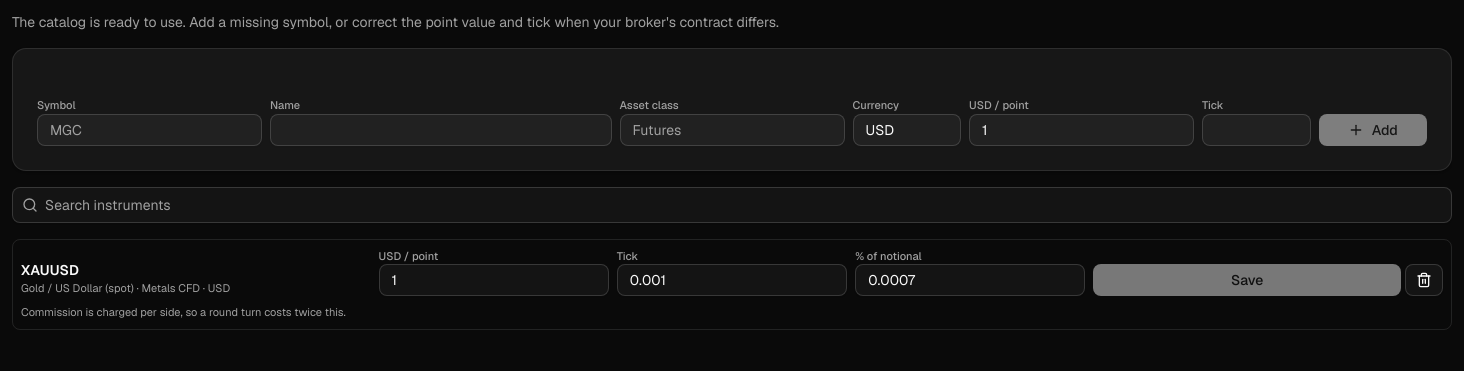
Test case: the contract numbers › names a number it cannot read, and refuses to save it
Replace the text in the field labelled "USD / point" in the row of "Metals CFD" with "25.000": x=494, y=280 [378,264,609,296]
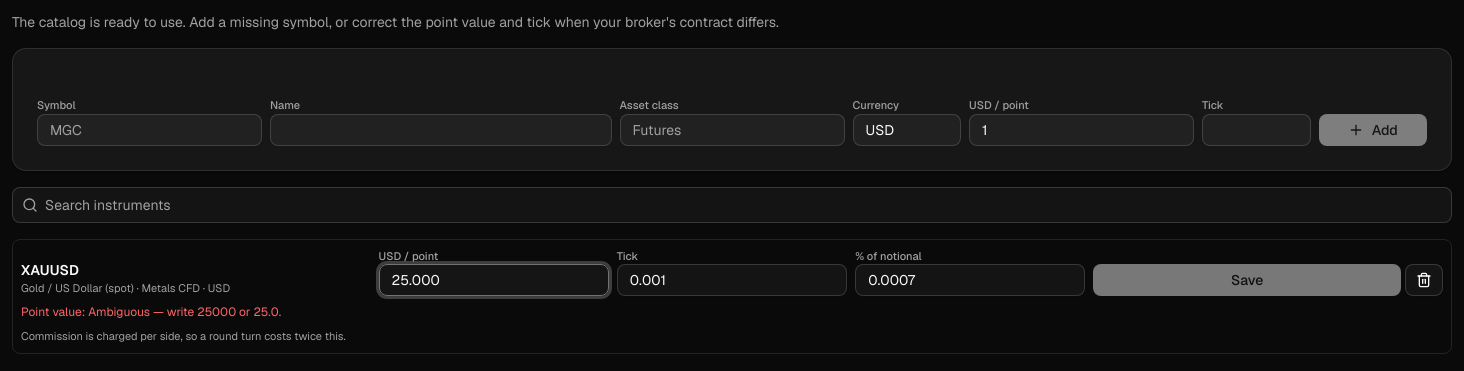
Expected: the button "Save" is disabled, [1094,264,1401,296]
Result: the text "Point value: Ambiguous — write 25000 or 25.0." is shown at [21,304,281,320]
